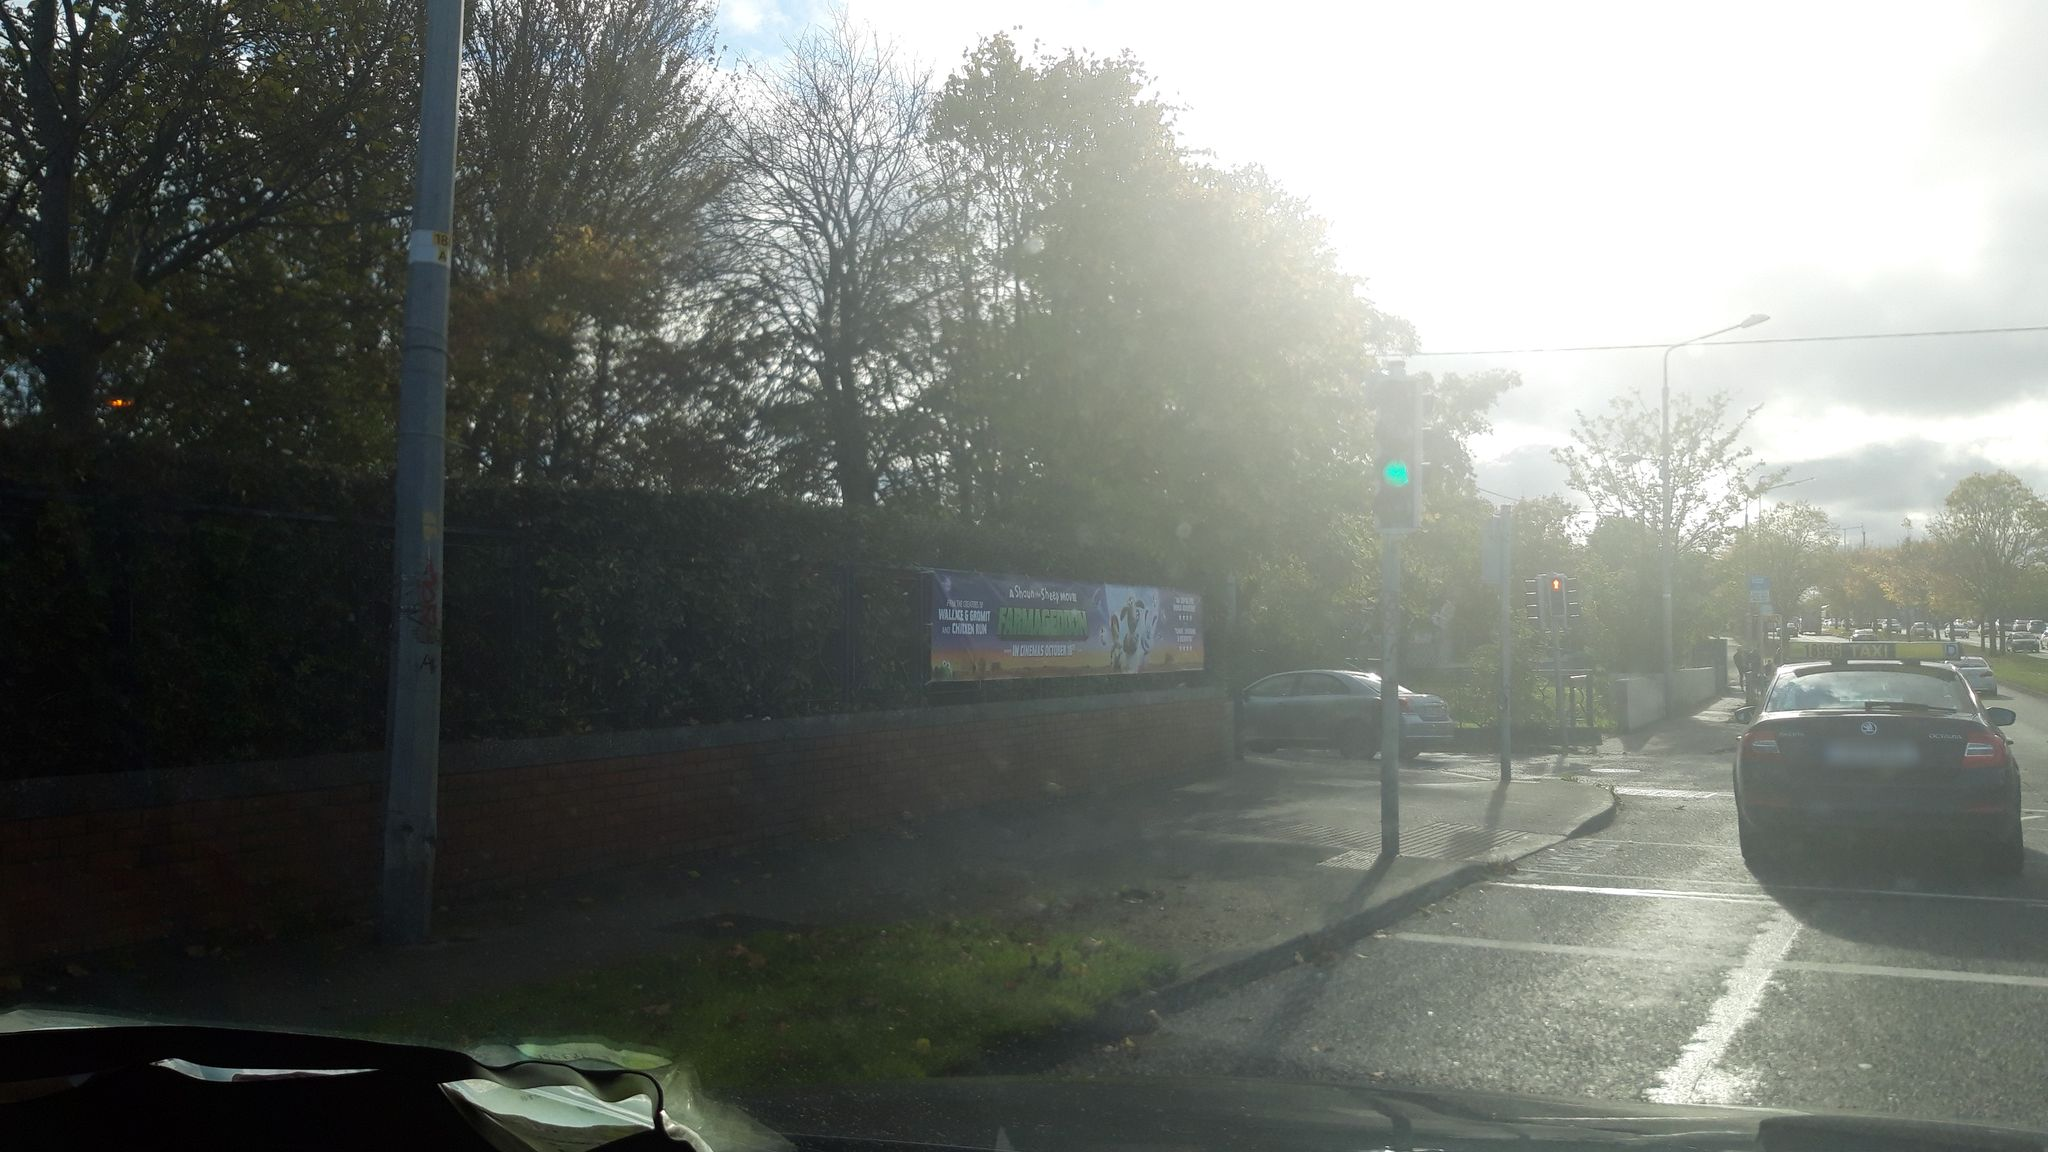vinyl banner: (906, 540, 1234, 698)
